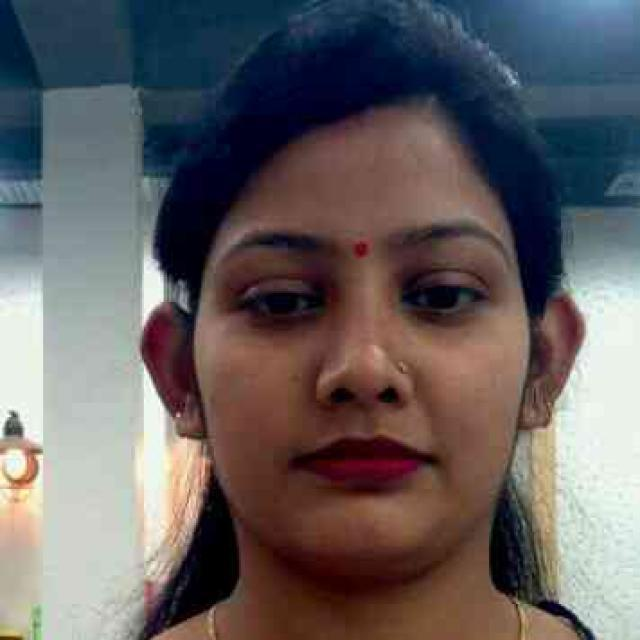puffy_eyes: (250, 311, 325, 343), (400, 309, 485, 337)
